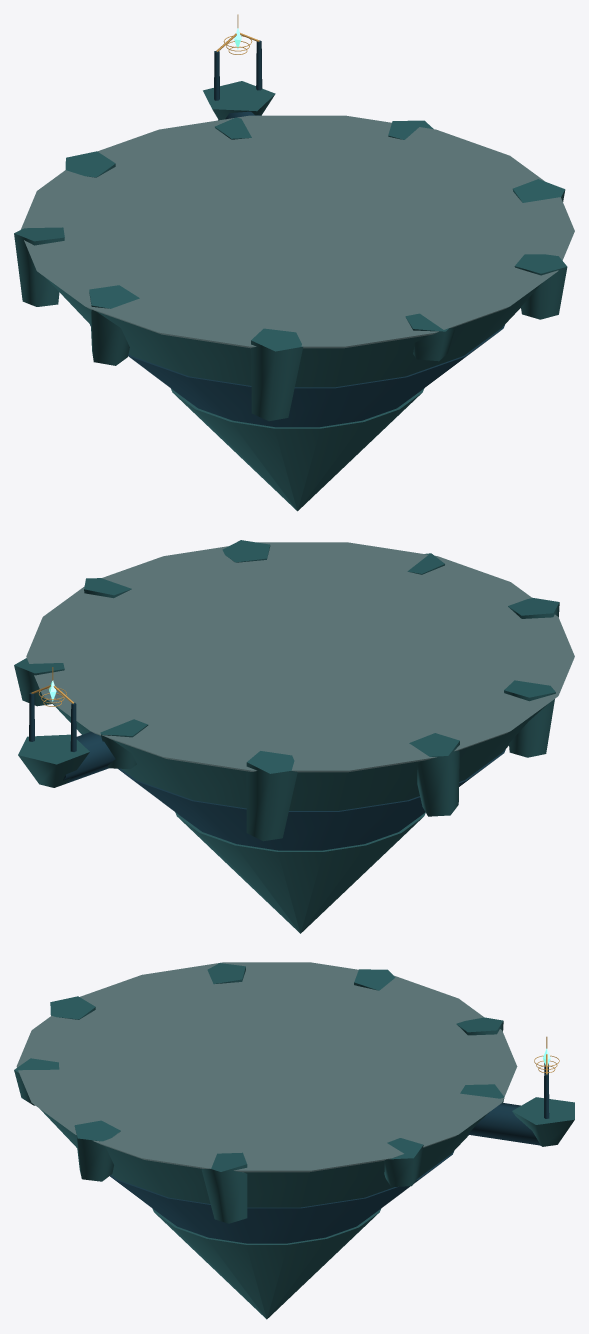
File: island-4-low.glb
The picture shows the model from 3 angles, top to bottom: view 1: azimuth 30°, elevation 25°; view 2: azimuth 150°, elevation 25°; view 3: azimuth 270°, elevation 25°; orthographic projection. The views are drawn at different scales.
Visible parts, largest first — view 1: island-3-terrace-merged, teal-basalt-merged, deep-basalt-merged; view 2: island-3-terrace-merged, teal-basalt-merged, deep-basalt-merged; view 3: island-3-terrace-merged, teal-basalt-merged, deep-basalt-merged.
Part boxes in pixels (bbox=[...]): island-3-terrace-merged: bbox=[20, 115, 574, 348]; teal-basalt-merged: bbox=[14, 81, 567, 511]; deep-basalt-merged: bbox=[90, 40, 504, 427]; island-3-terrace-merged: bbox=[26, 542, 574, 772]; teal-basalt-merged: bbox=[14, 540, 559, 933]; deep-basalt-merged: bbox=[29, 692, 505, 850]; island-3-terrace-merged: bbox=[16, 962, 517, 1172]; teal-basalt-merged: bbox=[14, 963, 574, 1319]; deep-basalt-merged: bbox=[110, 1063, 549, 1243].
Bounding box in the file's own units: 81.74 × 58.72 × 91.85.
